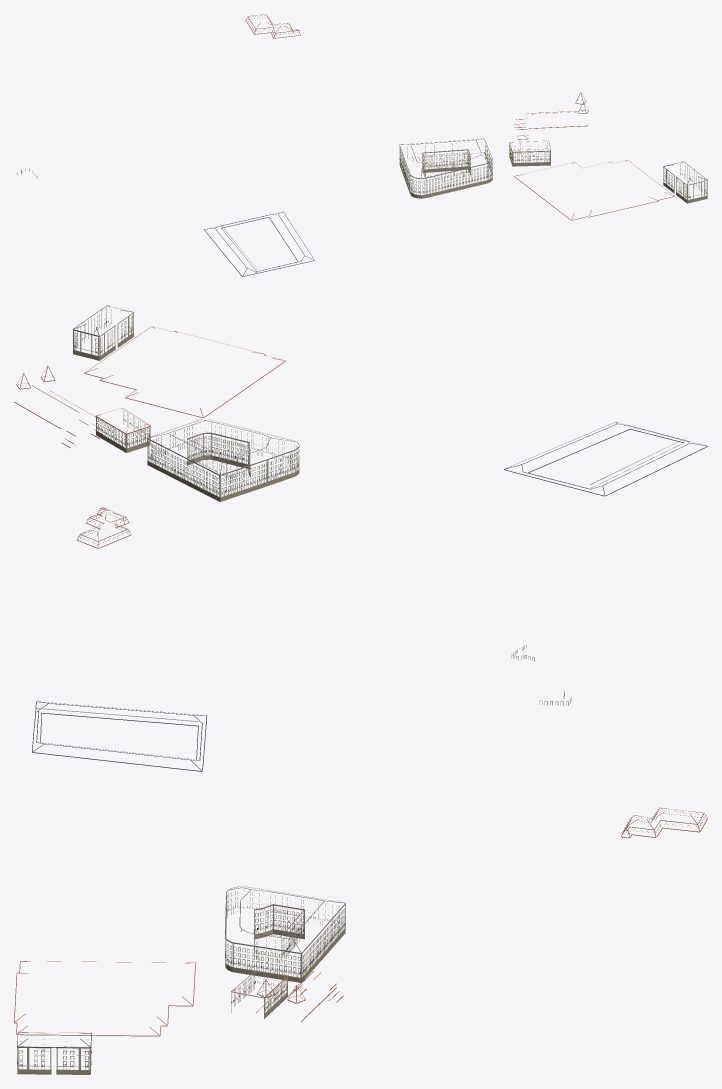
The picture shows the model from 3 angles, top to bottom: view 1: azimuth 30°, elevation 25°; view 2: azimuth 150°, elevation 25°; view 3: azimuth 270°, elevation 25°; orthographic projection. The views are drawn at different scales.
Visible parts, largest first — view 1: detail; view 2: detail; view 3: detail.
Boxes of the visible parts, <box> form: detail: <box>17,14,707,276</box>; detail: <box>14,305,707,661</box>; detail: <box>14,690,707,1074</box>.
Bounding box in the file's own units: 441 × 58.16 × 354.
